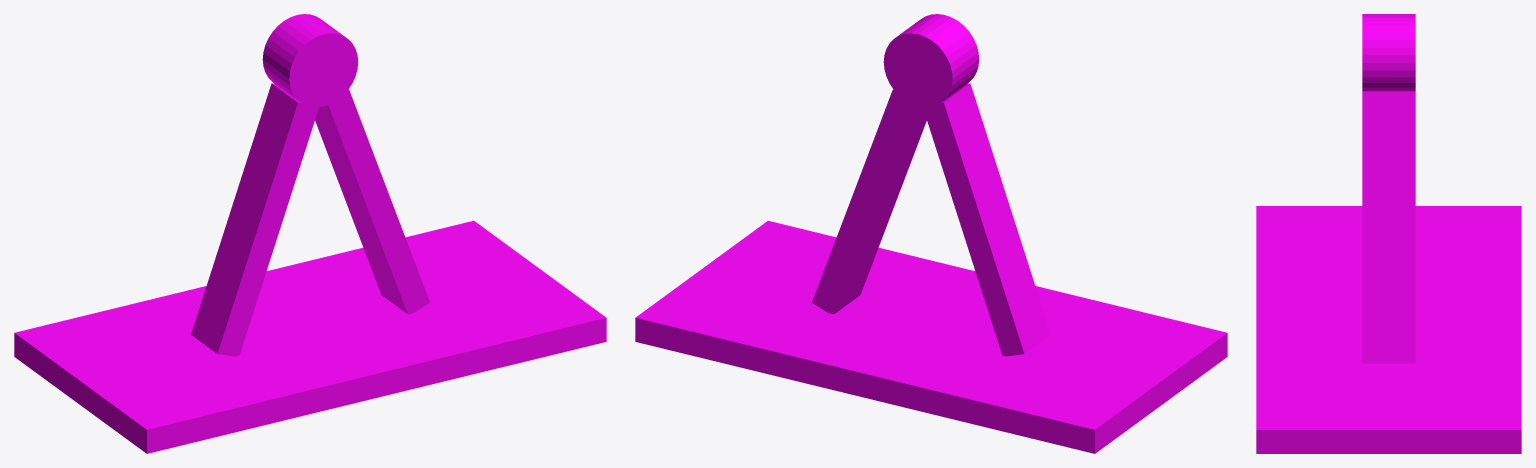
The model's file is stand.obj.
3 renders of one model, left to right at view 1: azimuth 30°, elevation 25°; view 2: azimuth 150°, elevation 25°; view 3: azimuth 270°, elevation 25°, orthographic.
Visible parts, largest first — view 1: bottom_stand, left_stand, right_stand, circle; view 2: bottom_stand, left_stand, right_stand, circle; view 3: bottom_stand, right_stand, circle.
Part boxes in pixels (x1,y1,x2,y2): bottom_stand: (14,220,606,453); left_stand: (191,83,319,356); right_stand: (315,89,429,314); circle: (262,14,358,107); bottom_stand: (635,220,1227,453); left_stand: (922,83,1050,356); right_stand: (812,89,926,314); circle: (883,14,979,107); bottom_stand: (1256,206,1521,453); right_stand: (1362,91,1415,363); circle: (1362,14,1415,91).
Size of the model in its own units: 20 by 13.5 by 10.
1 material, 1 textured.
